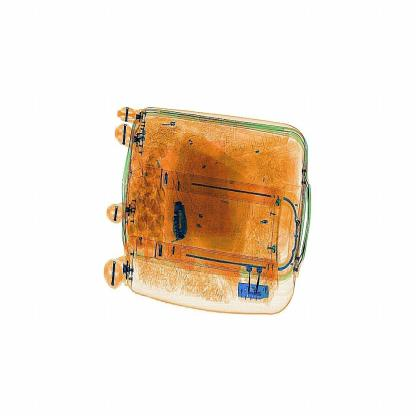scissors: (169, 197, 191, 244)
